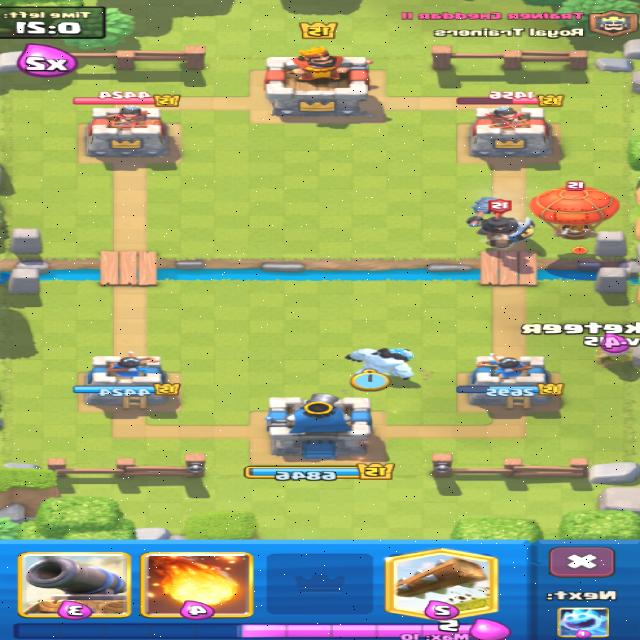Enemy-Balloon: (531, 182, 618, 239)
Enemy-DarkPrince-Shield-Charge: (468, 198, 534, 247)
Enemy-KingTower: (266, 46, 371, 115)
Enemy-PrincessTower: (87, 106, 168, 161), (470, 108, 553, 158)
Player-IceGolem: (346, 348, 415, 379)
Player-KingTower-Activated: (266, 393, 372, 460)
Player-PrincessTower: (457, 354, 560, 407), (87, 352, 180, 408)
